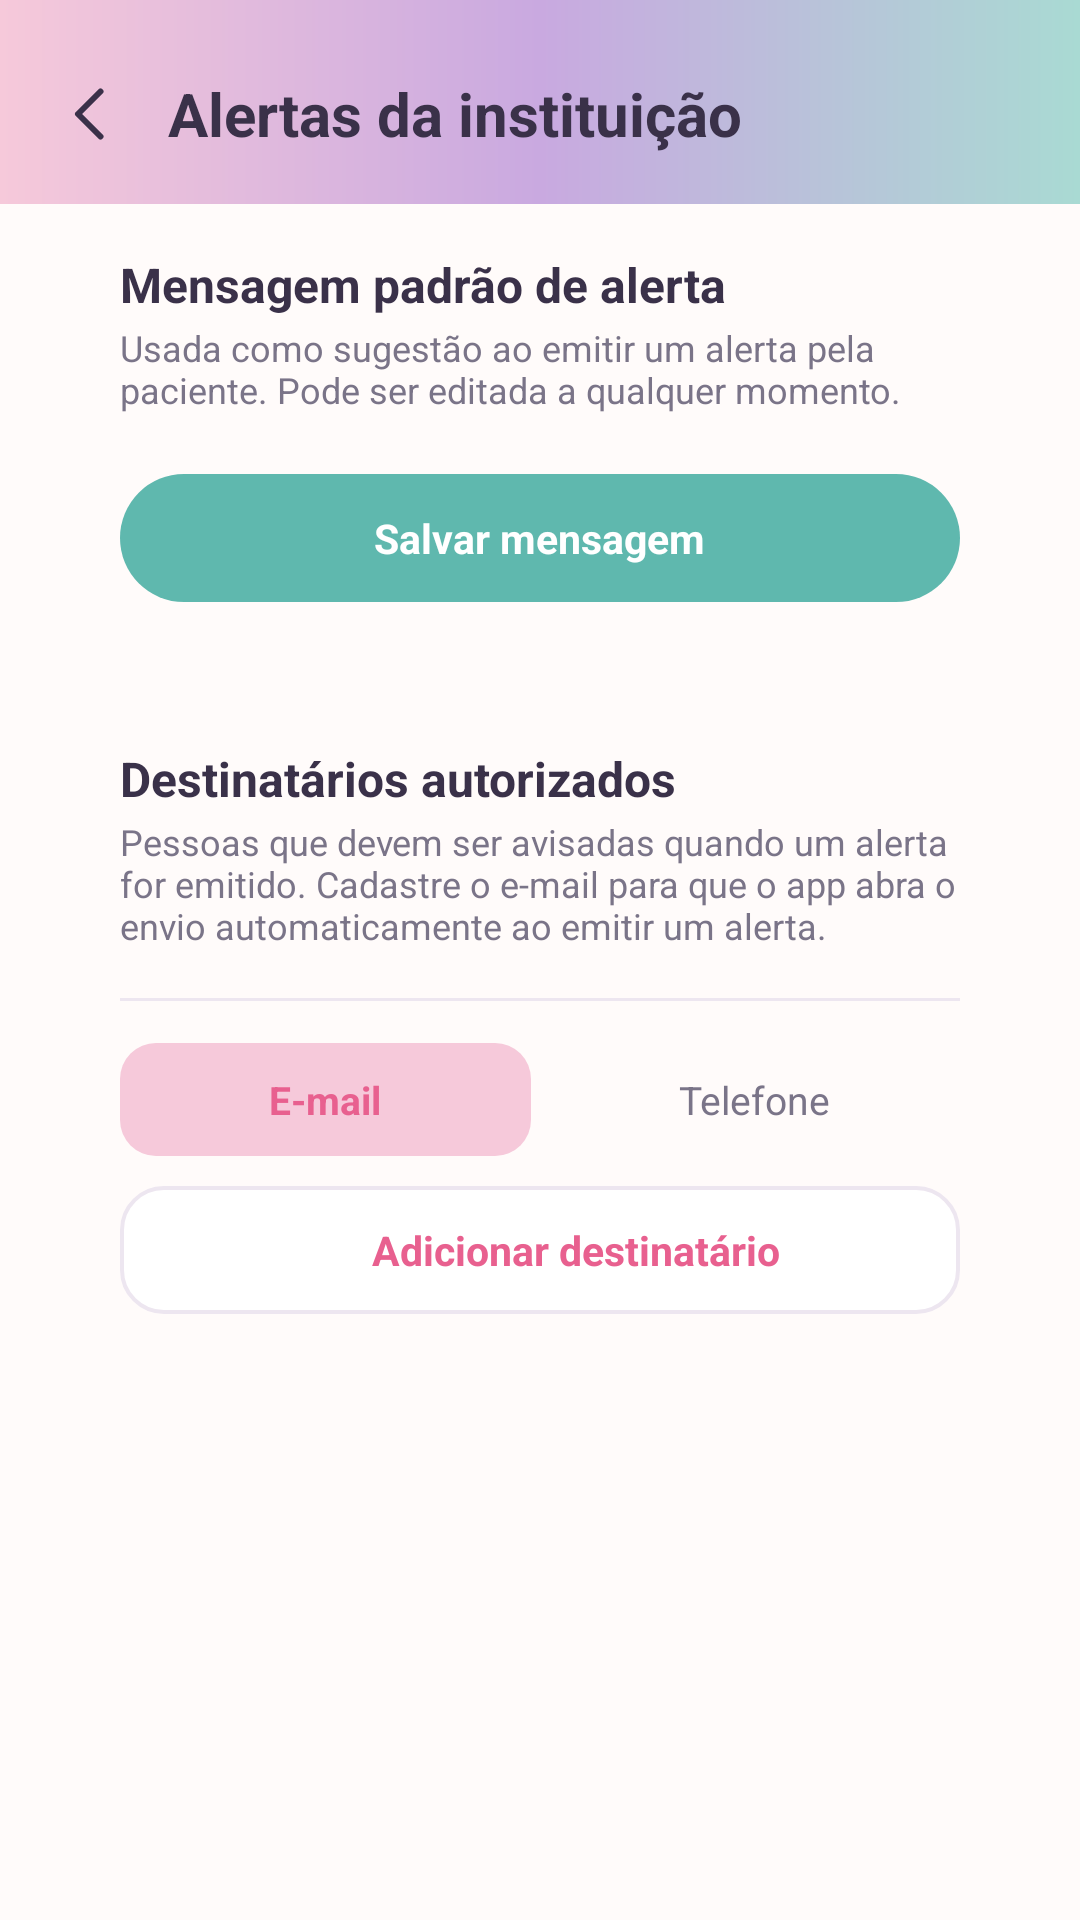

Locate icon controls on the screen. Image size 1080px×1920px, boxes as BBox(x1, y1, x2, y2).
back: BBox(75, 88, 104, 140)
